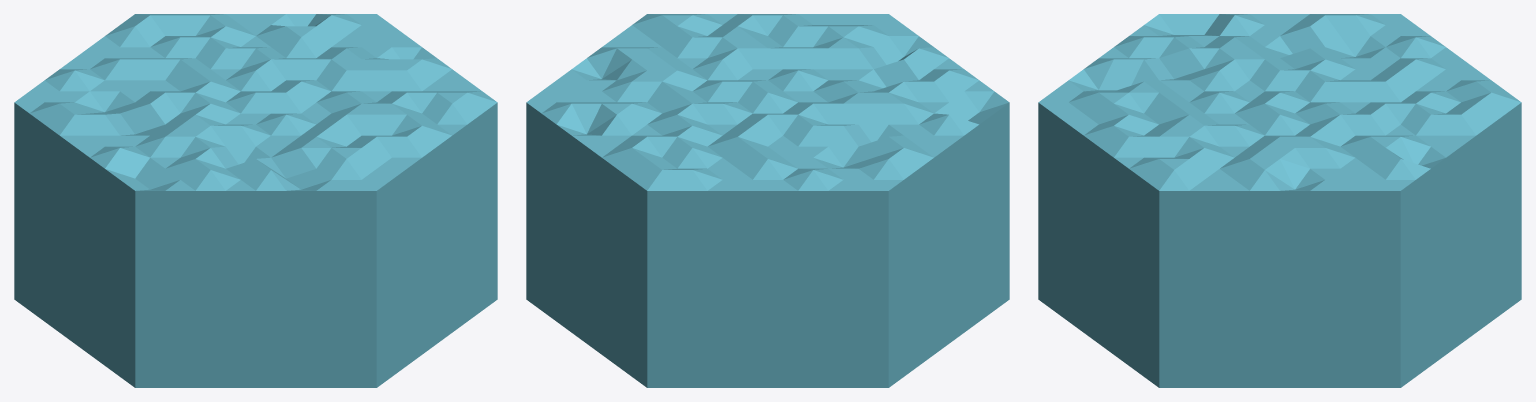
File: water.fbx
The picture shows the model from 3 angles, left to right: view 1: azimuth 30°, elevation 25°; view 2: azimuth 150°, elevation 25°; view 3: azimuth 270°, elevation 25°; orthographic projection.
Parts seen in each view (by area): view 1: Cylinder; view 2: Cylinder; view 3: Cylinder.
Part boxes in pixels (x1,y1,x2,y2): Cylinder: [14, 14, 497, 387]; Cylinder: [526, 14, 1009, 387]; Cylinder: [1038, 14, 1521, 387].
Bounding box in the file's own units: 1.73 × 0.945 × 2.
